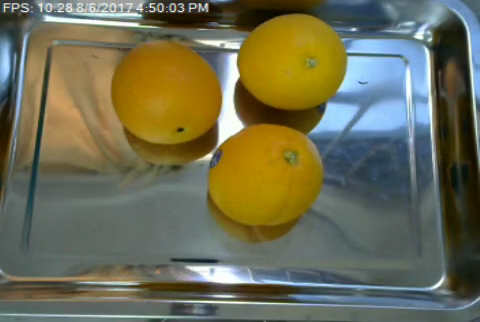Orange: (109, 40, 223, 144), (208, 123, 325, 224), (236, 13, 346, 110)
